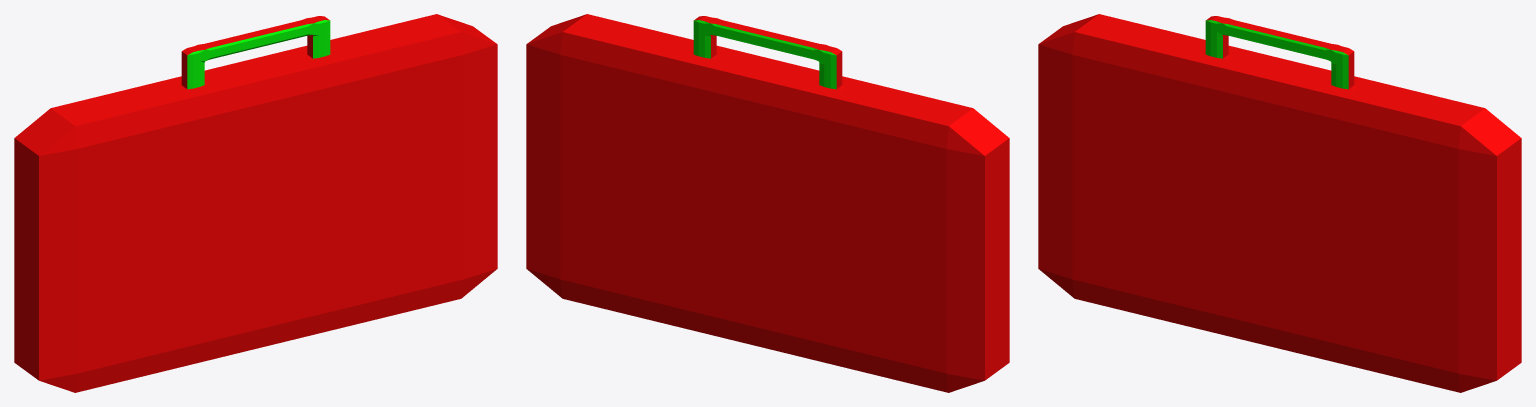
The model's file is Case.fbx.
The picture shows the model from 3 angles, left to right: view 1: azimuth 30°, elevation 25°; view 2: azimuth 150°, elevation 25°; view 3: azimuth 330°, elevation 25°; orthographic projection.
Visible parts, largest first — view 1: Case; view 2: Case; view 3: Case.
Boxes of the visible parts, x1,y1,x2,y2 form: Case: [14, 14, 497, 392]; Case: [526, 14, 1009, 392]; Case: [1038, 14, 1521, 392].
Bounding box in the file's own units: 163 × 103 × 17.94.
